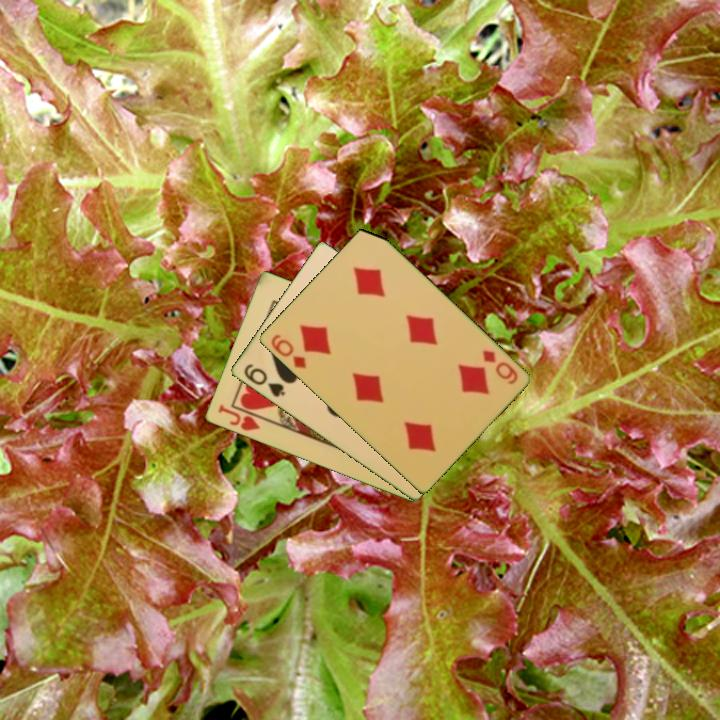6d: (267, 330, 309, 372), (478, 346, 520, 388)
6s: (240, 360, 288, 400)
Jh: (214, 401, 263, 434)
